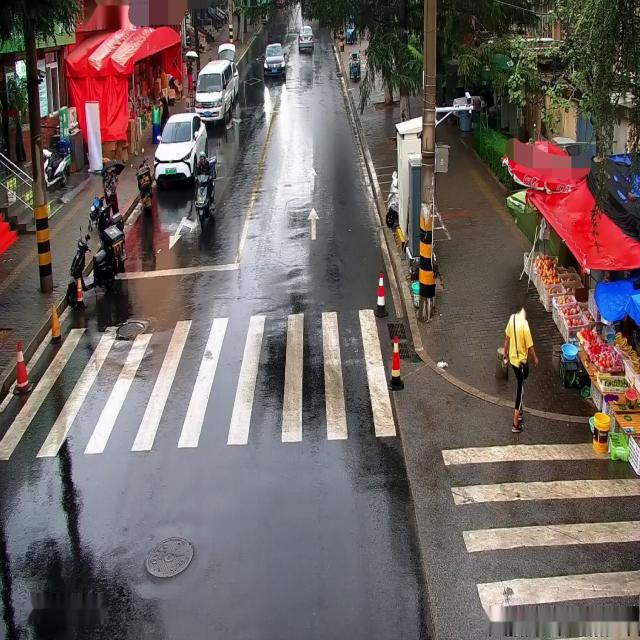fixed_stall: (520, 245, 640, 474), (124, 58, 181, 153)
sunshade: (532, 176, 640, 271), (62, 22, 182, 73), (500, 138, 582, 193), (592, 260, 640, 332)
